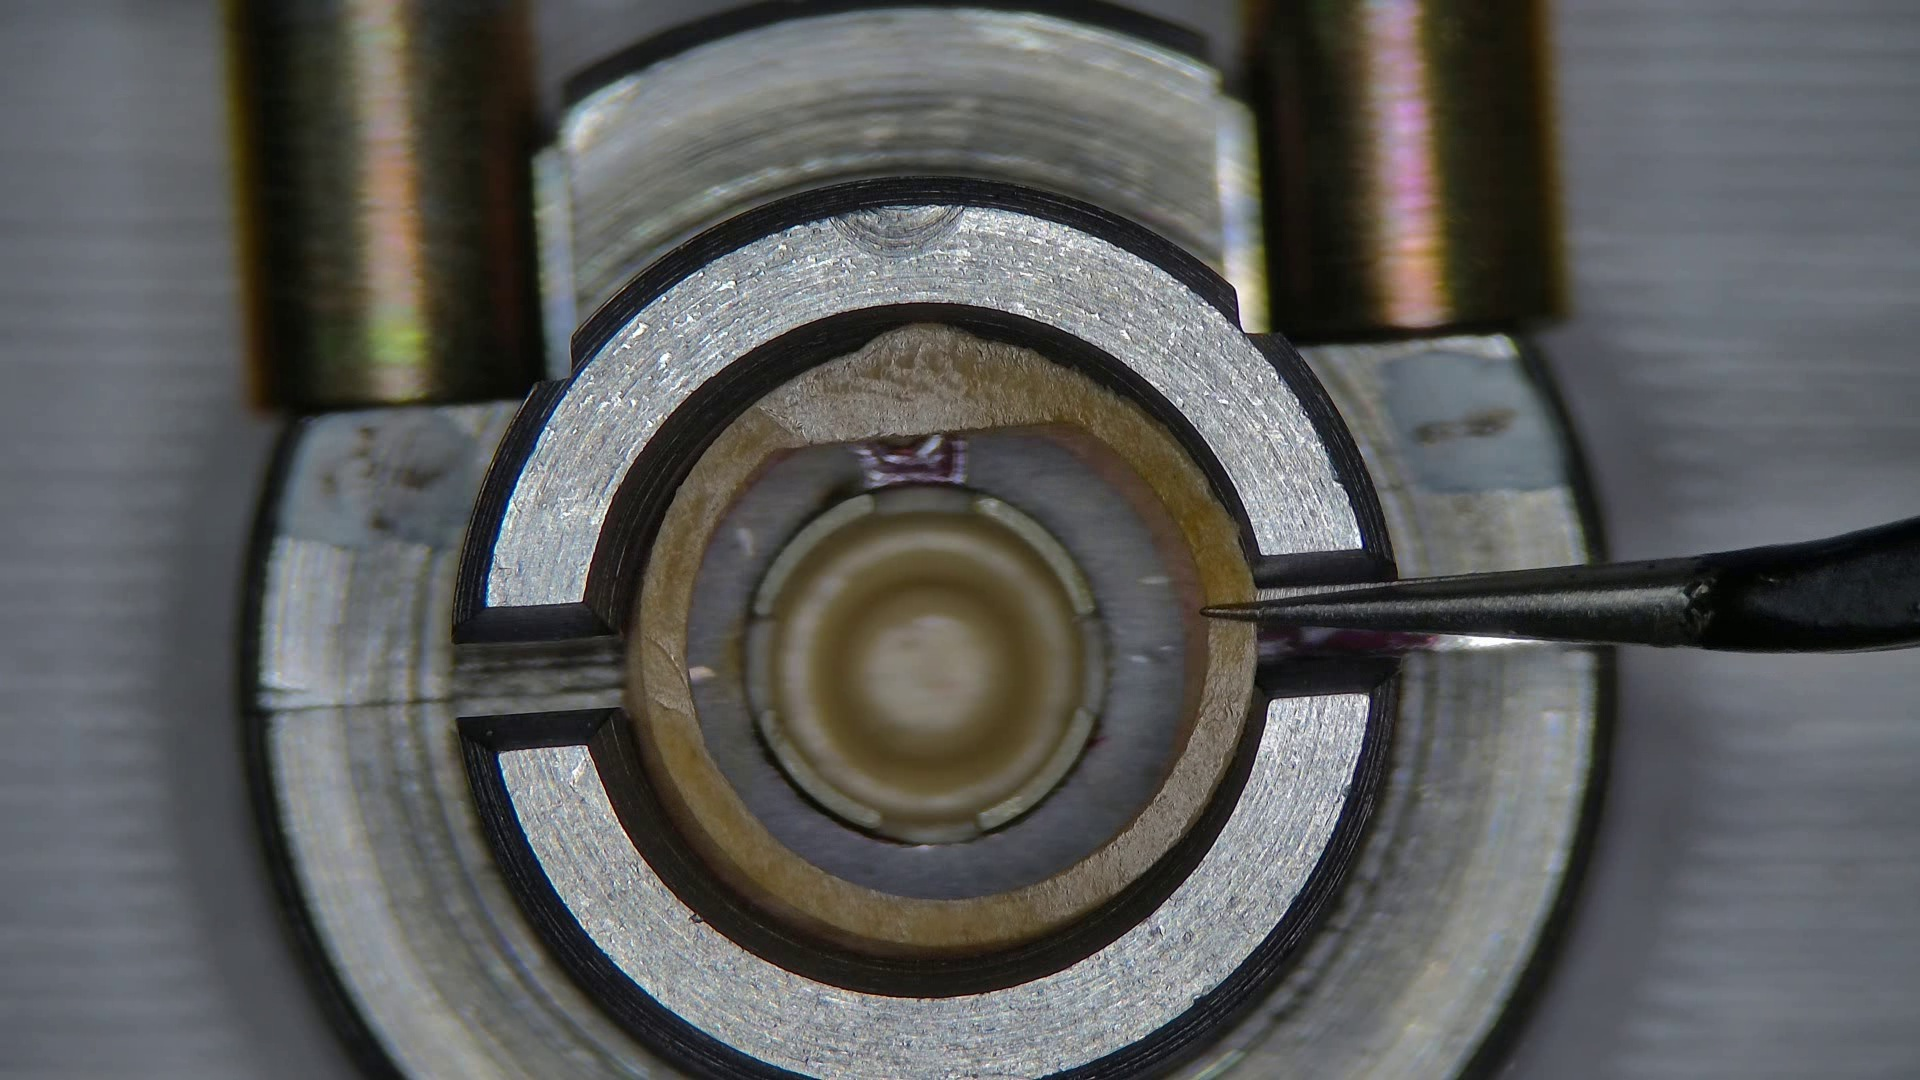GreyOring: (1023, 419, 1203, 729)
YellowOring: (688, 434, 1187, 899)
redOring: (633, 323, 1251, 947)
